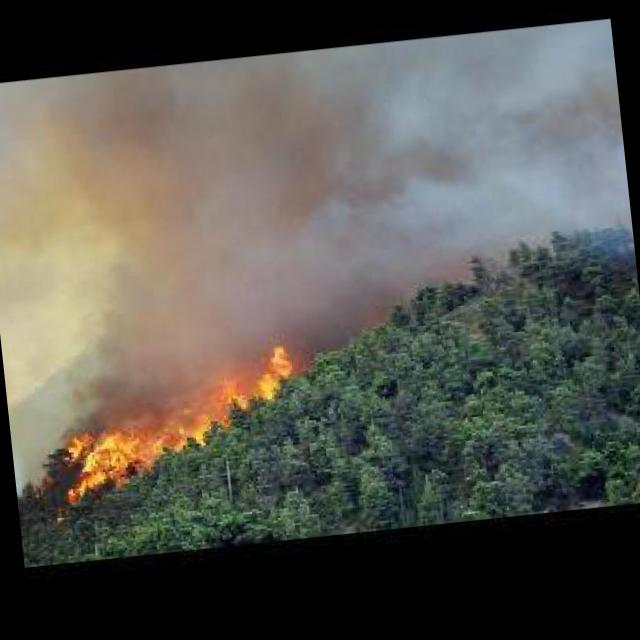fire: (14, 326, 322, 534)
smoke: (172, 16, 638, 326), (18, 62, 207, 434)
